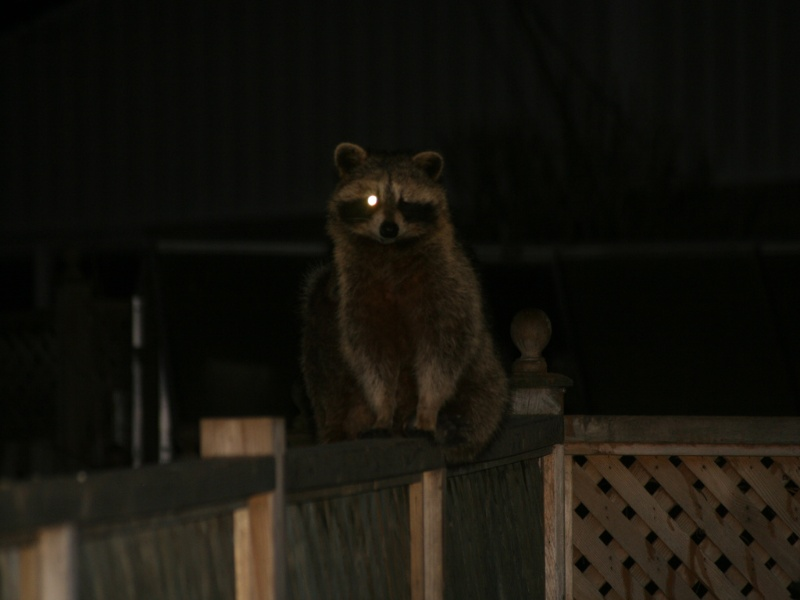raccoon: (305, 139, 515, 459)
